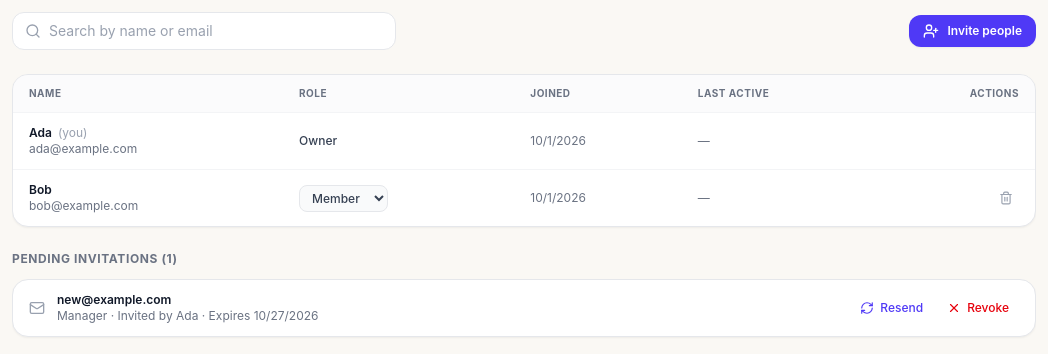
Test case: MembersPanel › filters by name or email
Step 1. Type "bob" into the search field named "Search members" → (216, 31), box 49,21 -> 383,41
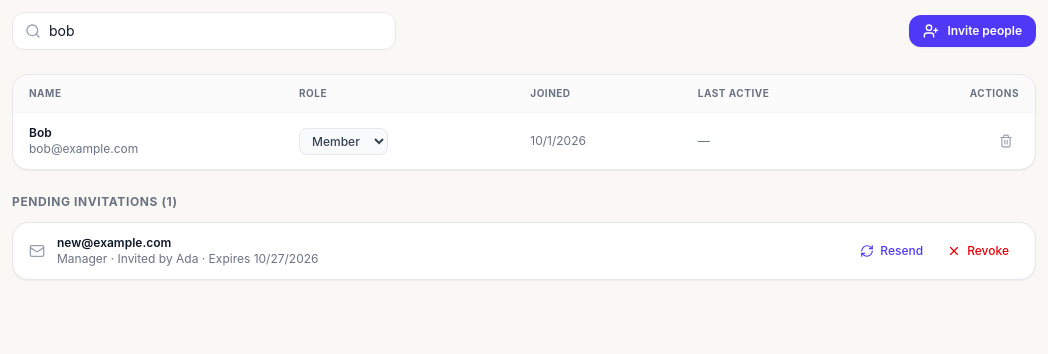
Expected: the text "bob@example.com" is shown, 29,141 -> 138,156
Expected: the text "ada@example.com" is gone
